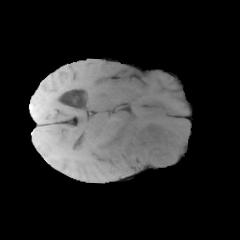glioma: (96, 107, 186, 172)
